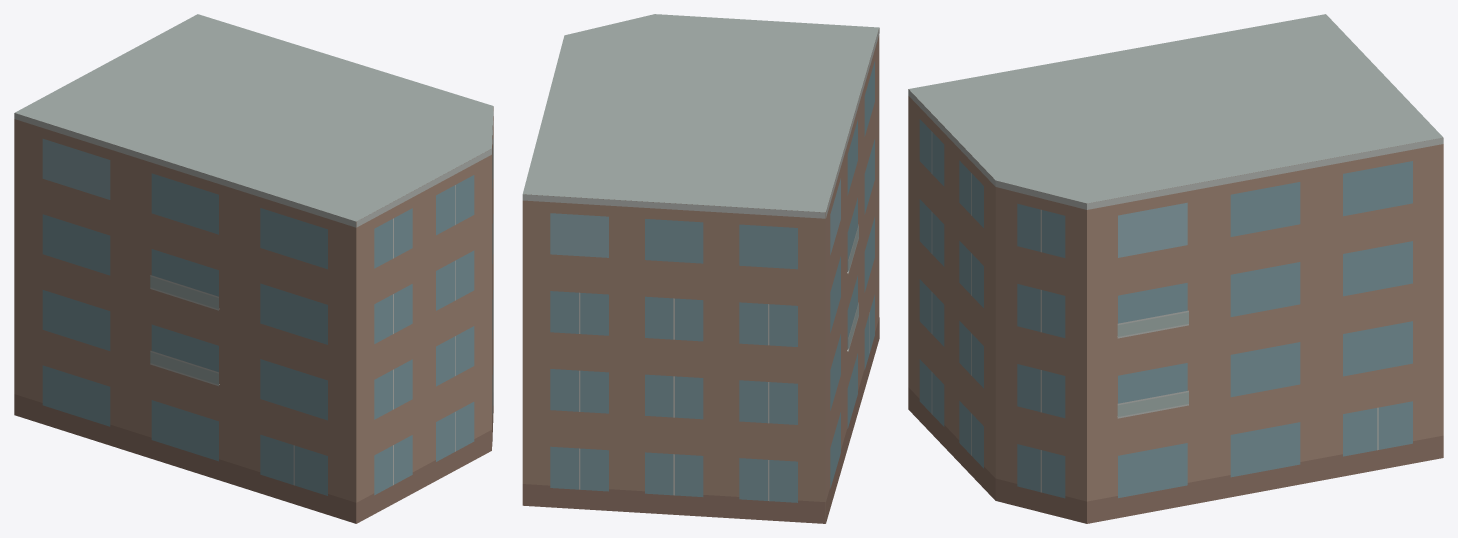
The model's file is survey-upis-33033314.glb.
The picture shows the model from 3 angles, left to right: view 1: azimuth 30°, elevation 25°; view 2: azimuth 150°, elevation 25°; view 3: azimuth 270°, elevation 25°; orthographic projection. The views are drawn at different scales.
Visible parts, largest first — view 1: survey-upis-33033314.tmp; view 2: survey-upis-33033314.tmp; view 3: survey-upis-33033314.tmp.
Part boxes in pixels (left/top/right/bottom): survey-upis-33033314.tmp: left=14, top=14, right=493, bottom=523; survey-upis-33033314.tmp: left=522, top=14, right=879, bottom=523; survey-upis-33033314.tmp: left=908, top=14, right=1443, bottom=523.
Size of the model in its own units: 15.36 by 12.1 by 18.33.
